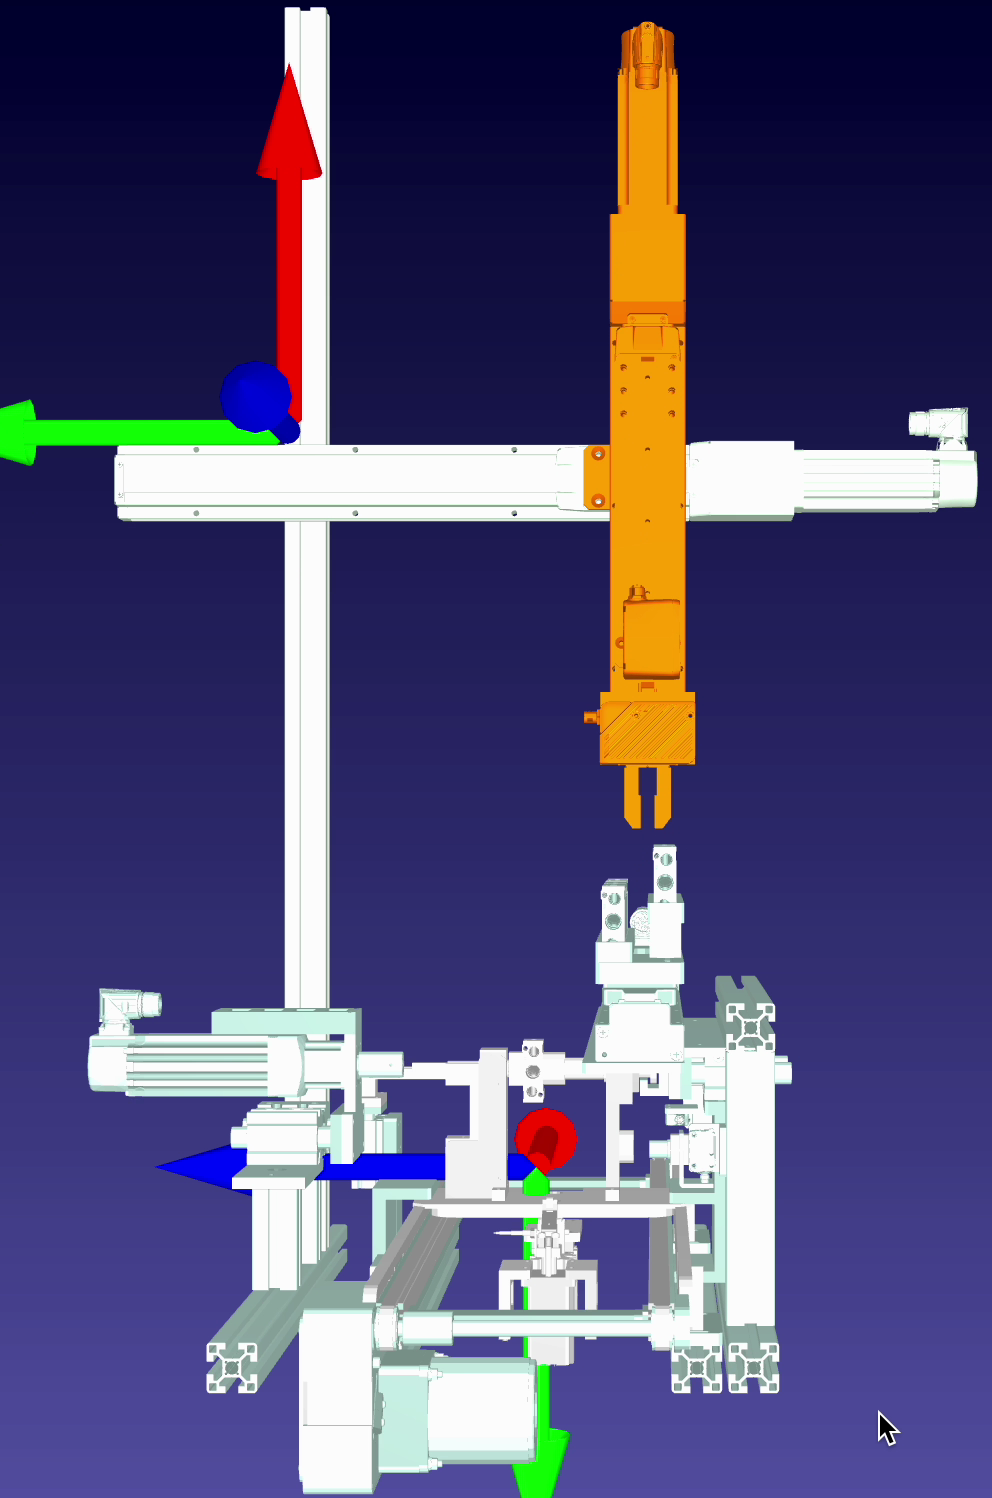Gripper: (573, 686, 699, 837)
